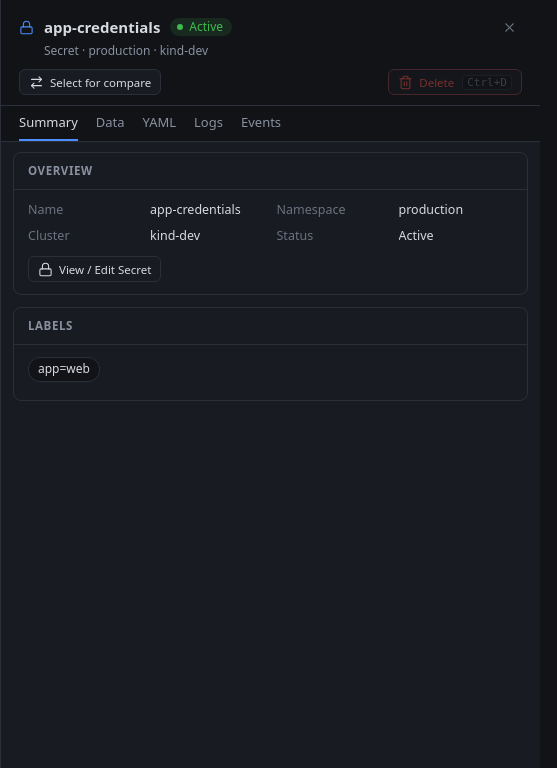
Task R-13: Mount HelmView, SecretEditor, PluginSandboxView › 2. SecretEditor in ResourceDrawer › respects read-only contexts by disabling editing and hiding Save button
Click the tab with aria-label "secret data" at (110, 127), box x1=96 y1=114 x2=125 y2=141
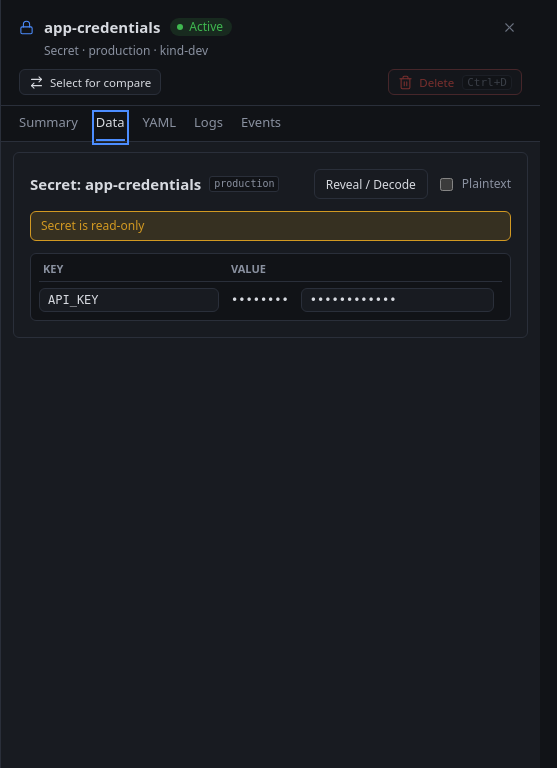
Now the button "Reveal / Decode" is shown, box x1=314 y1=169 x2=428 y2=199
Now the message with test id "secret-readonly-notice" reads "Secret is read-only", box x1=41 y1=217 x2=144 y2=234
